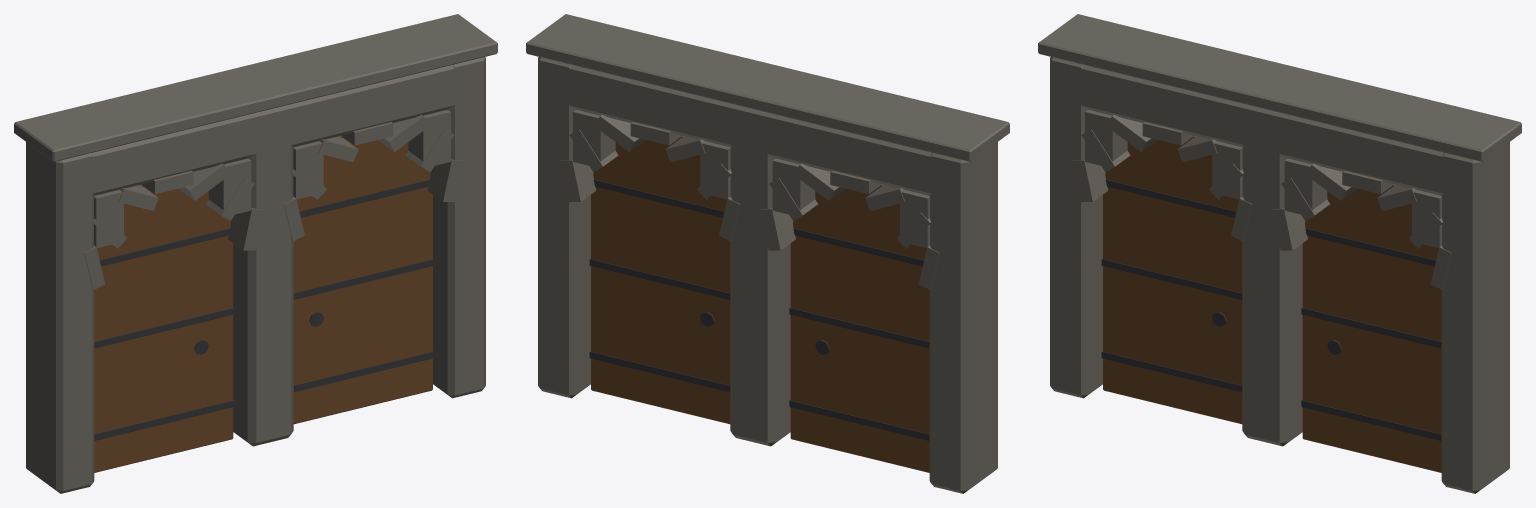
Rendered from Bld_Lab_TwinDoors_Closed.glb.
The picture shows the model from 3 angles, left to right: view 1: azimuth 30°, elevation 25°; view 2: azimuth 150°, elevation 25°; view 3: azimuth 330°, elevation 25°; orthographic projection.
Parts seen in each view (by area): view 1: Bld_Lab_TwinDoors_Closed, Bld_Lab_TwinDoors_Closed_DoorB, Bld_Lab_TwinDoors_Closed_DoorA; view 2: Bld_Lab_TwinDoors_Closed, Bld_Lab_TwinDoors_Closed_DoorB, Bld_Lab_TwinDoors_Closed_DoorA; view 3: Bld_Lab_TwinDoors_Closed, Bld_Lab_TwinDoors_Closed_DoorA, Bld_Lab_TwinDoors_Closed_DoorB.
Boxes of the visible parts, x1,y1,x2,y2 form: Bld_Lab_TwinDoors_Closed: [14, 14, 497, 493]; Bld_Lab_TwinDoors_Closed_DoorB: [293, 135, 434, 424]; Bld_Lab_TwinDoors_Closed_DoorA: [94, 184, 234, 472]; Bld_Lab_TwinDoors_Closed: [526, 14, 1009, 493]; Bld_Lab_TwinDoors_Closed_DoorB: [589, 135, 730, 424]; Bld_Lab_TwinDoors_Closed_DoorA: [789, 184, 929, 472]; Bld_Lab_TwinDoors_Closed: [1038, 14, 1521, 493]; Bld_Lab_TwinDoors_Closed_DoorA: [1101, 135, 1242, 424]; Bld_Lab_TwinDoors_Closed_DoorB: [1301, 184, 1441, 472].
Size of what is drawn, in the model's own units: 5.8 by 4.35 by 0.9.
